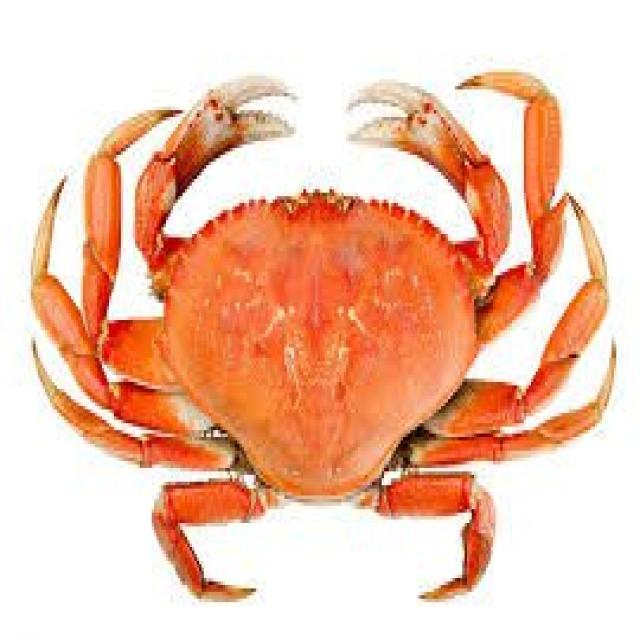crab: (106, 80, 482, 473)
